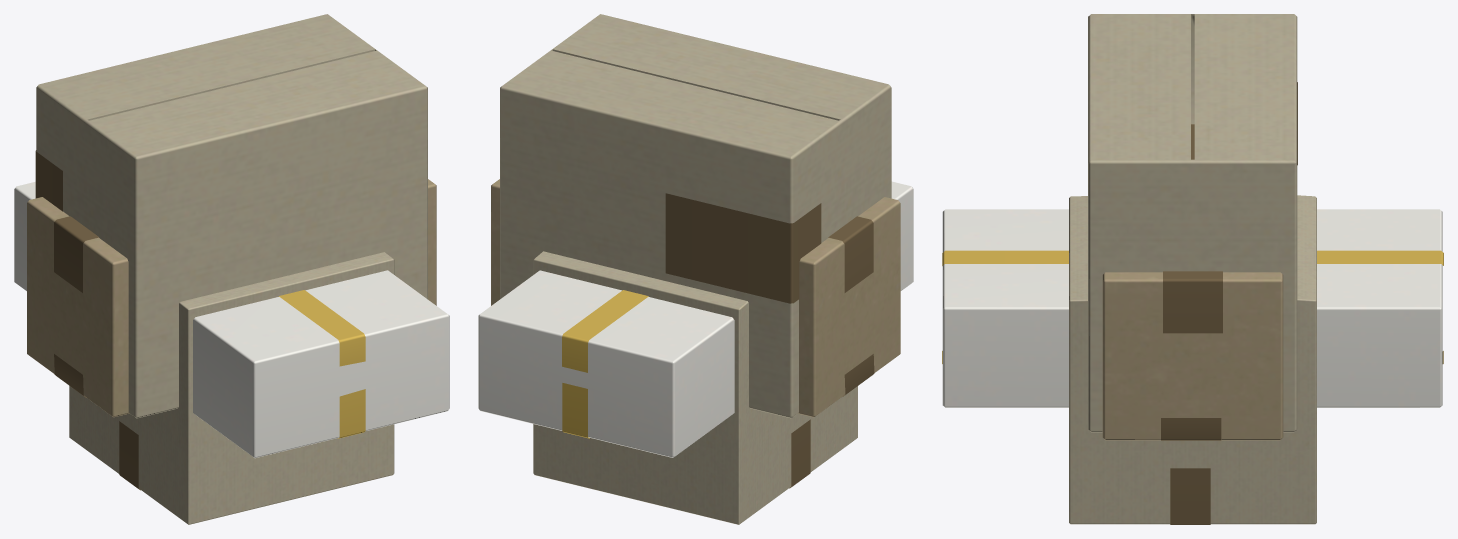
File: CardBoardBox.fbx
3 views of the same model, side by side, from view 1: azimuth 30°, elevation 25°; view 2: azimuth 150°, elevation 25°; view 3: azimuth 270°, elevation 25° (orthographic). The views are drawn at different scales.
Parts seen in each view (by area): view 1: Cardboard_Box_001_A_Back_Prop, Cardboard_Box_003_A_Back_Prop #509774, Cardboard_Box_004_A_Back_Gameplay, Cardboard_Box_005_A_Back_Prop #509786; view 2: Cardboard_Box_001_A_Back_Prop, Cardboard_Box_003_A_Back_Prop #509774, Cardboard_Box_004_A_Back_Gameplay, Cardboard_Box_005_A_Back_Prop #509786; view 3: Cardboard_Box_001_A_Back_Prop, Cardboard_Box_003_A_Back_Prop #509774, Cardboard_Box_005_A_Back_Prop #509786, Cardboard_Box_004_A_Back_Gameplay.
Boxes of the visible parts, x1,y1,x2,y2 form: Cardboard_Box_001_A_Back_Prop: [35, 14, 427, 418]; Cardboard_Box_003_A_Back_Prop #509774: [14, 181, 449, 458]; Cardboard_Box_004_A_Back_Gameplay: [69, 252, 394, 524]; Cardboard_Box_005_A_Back_Prop #509786: [27, 179, 436, 417]; Cardboard_Box_001_A_Back_Prop: [500, 14, 891, 418]; Cardboard_Box_003_A_Back_Prop #509774: [478, 181, 913, 457]; Cardboard_Box_004_A_Back_Gameplay: [533, 251, 857, 524]; Cardboard_Box_005_A_Back_Prop #509786: [491, 179, 900, 417]; Cardboard_Box_001_A_Back_Prop: [1088, 14, 1297, 432]; Cardboard_Box_003_A_Back_Prop #509774: [942, 209, 1443, 407]; Cardboard_Box_005_A_Back_Prop #509786: [1102, 124, 1283, 440]; Cardboard_Box_004_A_Back_Gameplay: [1069, 195, 1316, 524].
Bounding box in the file's own units: 90.89 × 98.86 × 116.
